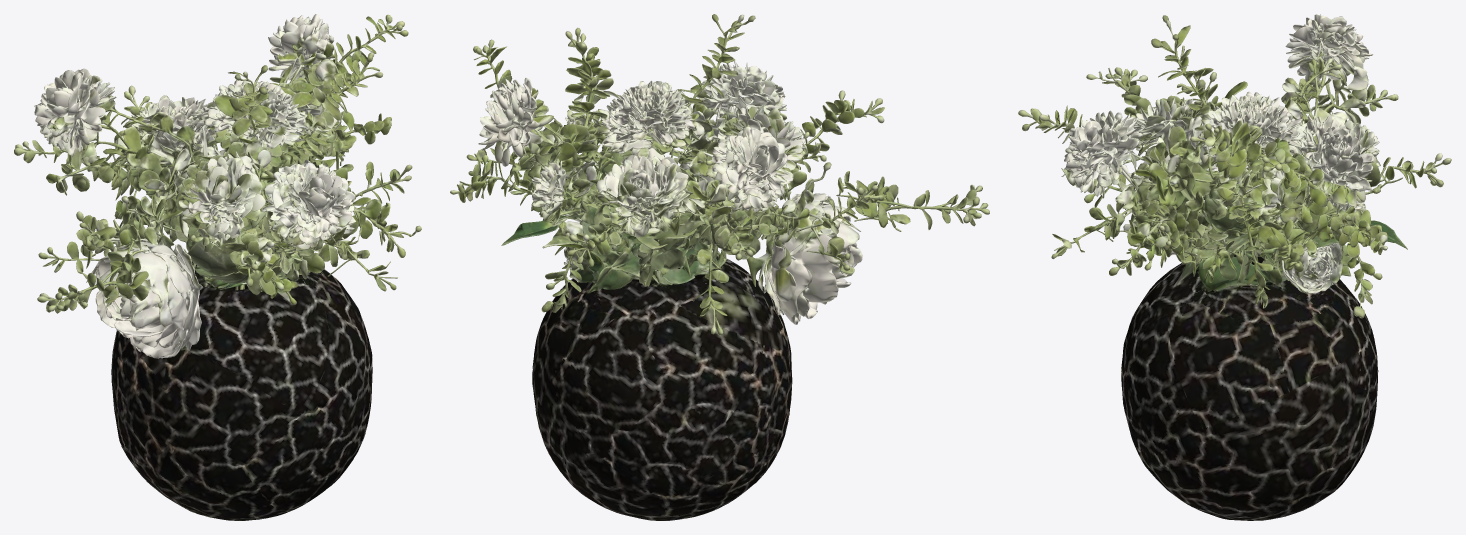
File: behoma-metal-ball-vase-for-home-decor-round-black--light.glb
3 renders of one model, left to right at view 1: azimuth 30°, elevation 25°; view 2: azimuth 150°, elevation 25°; view 3: azimuth 270°, elevation 25°, orthographic.
Size of the model in its own units: 1.84 by 1.88 by 1.59.
1 material, 1 textured.
